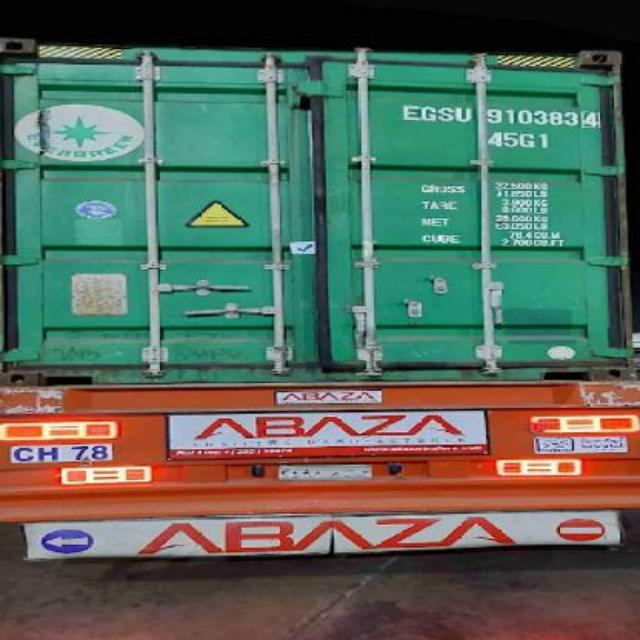0: (514, 106, 532, 130)
1: (502, 108, 518, 130)
3: (532, 108, 548, 130), (564, 110, 580, 130)
4: (586, 112, 600, 126)
8: (550, 111, 562, 127)
9: (484, 106, 504, 126)
E: (398, 101, 418, 122)
G: (418, 104, 438, 126)
S: (440, 102, 450, 122)
U: (452, 106, 472, 122)
